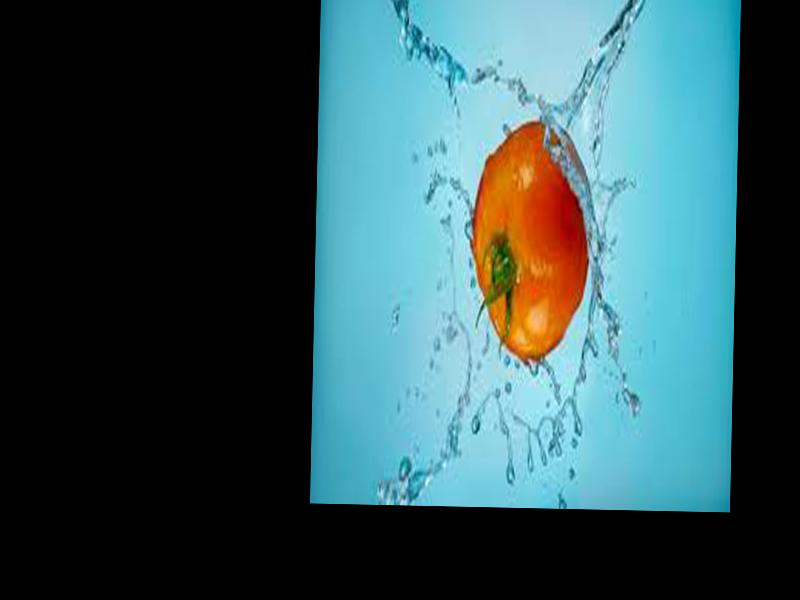Tomato: (470, 120, 593, 363)
